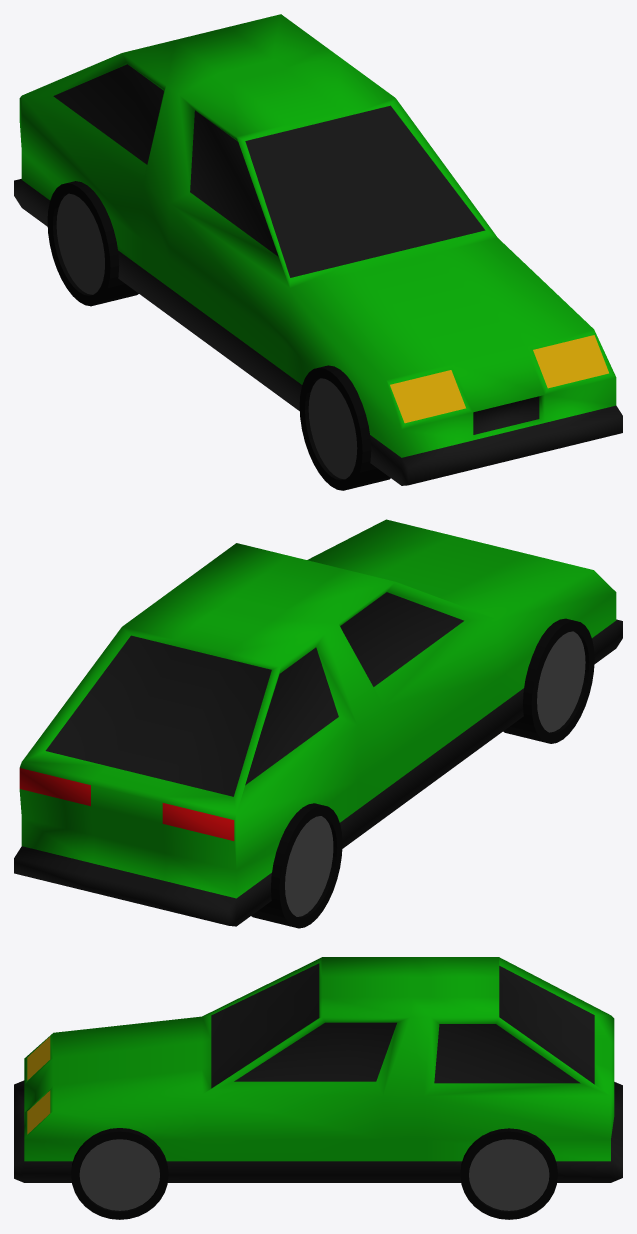
The model's file is car.obj.
3 views of the same model, one above another, from view 1: azimuth 30°, elevation 25°; view 2: azimuth 150°, elevation 25°; view 3: azimuth 270°, elevation 25° (orthographic). The views are drawn at different scales.
Visible parts, largest first — view 1: Cube, Цилиндр; view 2: Cube, Цилиндр; view 3: Cube, Цилиндр.
Part boxes in pixels (x1,y1,x2,y2): Cube: (14,14,622,485); Цилиндр: (47,181,390,490); Cube: (14,519,622,926); Цилиндр: (251,618,594,928); Cube: (14,957,622,1182); Цилиндр: (71,1128,557,1219).
Bounding box in the file's own units: 4.32 × 4.36 × 12.72.
